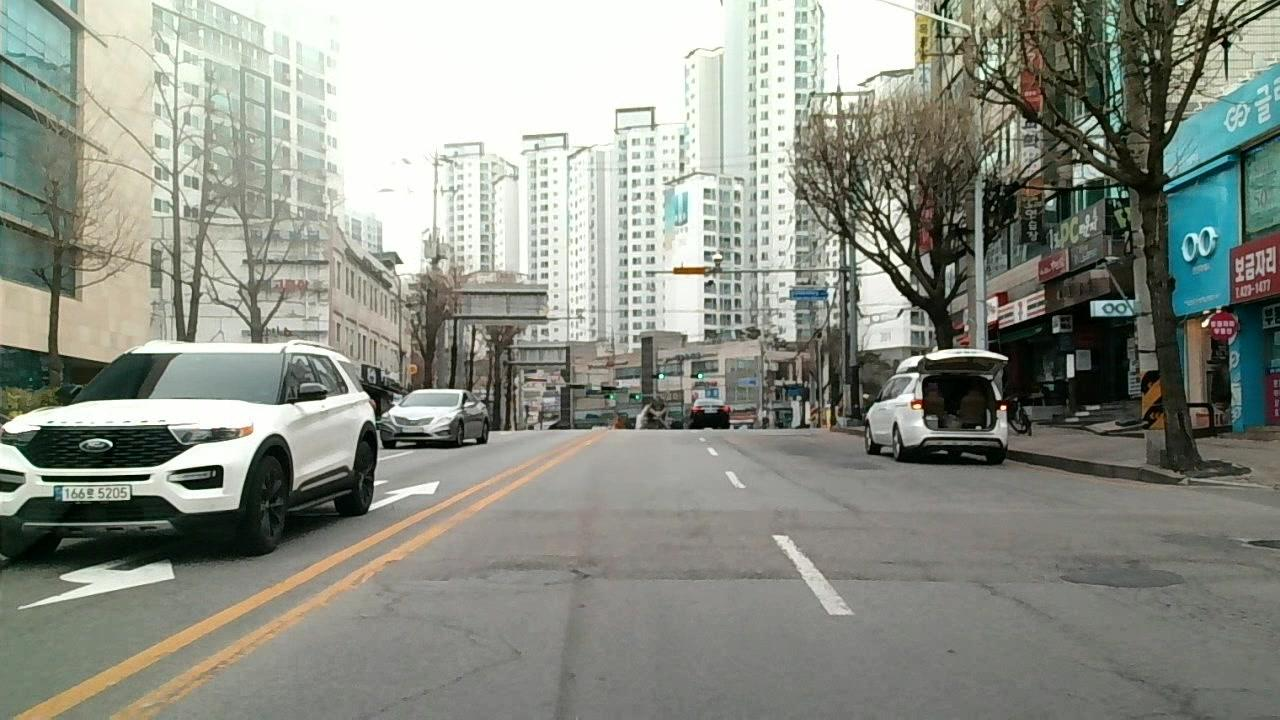banner: (985, 577, 1198, 714), (405, 556, 961, 586), (388, 612, 523, 701)
